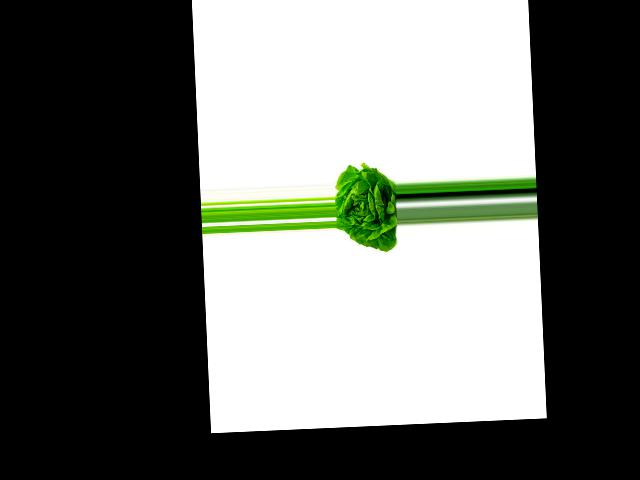lettuce: (333, 165, 399, 255)
